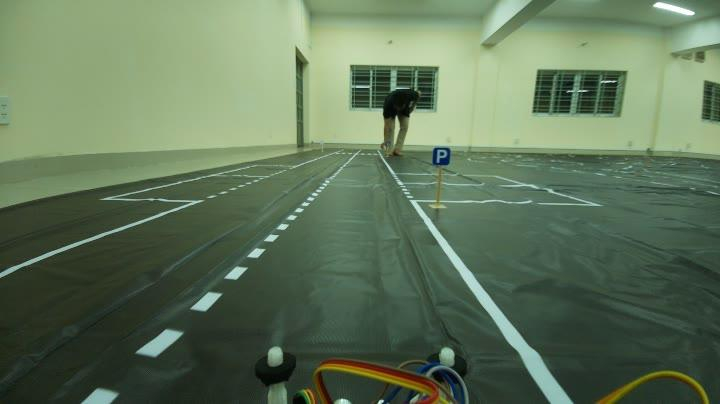parking: (430, 140, 455, 170)
